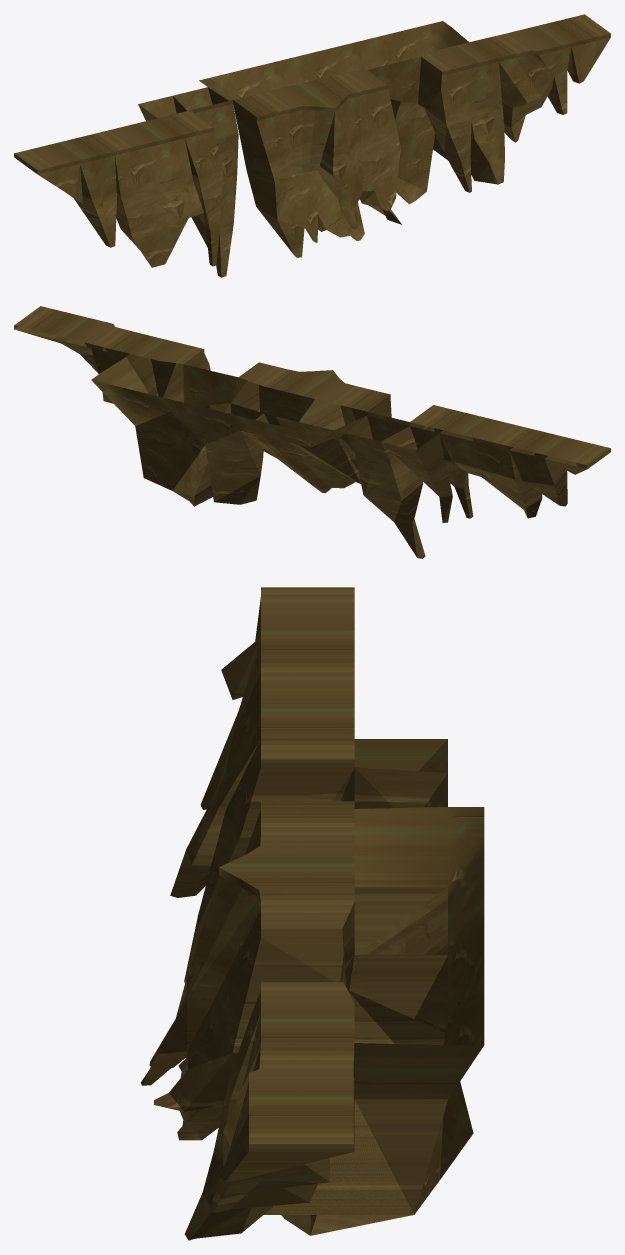
File: underside.fbx
The picture shows the model from 3 angles, top to bottom: view 1: azimuth 30°, elevation 25°; view 2: azimuth 150°, elevation 25°; view 3: azimuth 270°, elevation 25°; orthographic projection. The views are drawn at different scales.
Parts seen in each view (by area): view 1: Box076; view 2: Box076; view 3: Box076.
Part boxes in pixels (x1,y1,x2,y2): Box076: (14,14,610,277); Box076: (14,306,610,558); Box076: (141,587,484,1240).
Bounding box in the file's own units: 204 × 51.95 × 53.06.
1 material, 1 textured.
